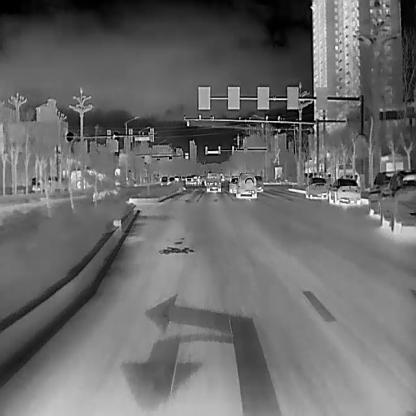car: (378, 169, 415, 233), (368, 171, 395, 213), (69, 168, 118, 190), (328, 177, 360, 203), (305, 176, 328, 197), (236, 171, 256, 195), (205, 172, 220, 190), (228, 174, 240, 191), (255, 176, 263, 190), (183, 175, 193, 185), (159, 175, 168, 185)
